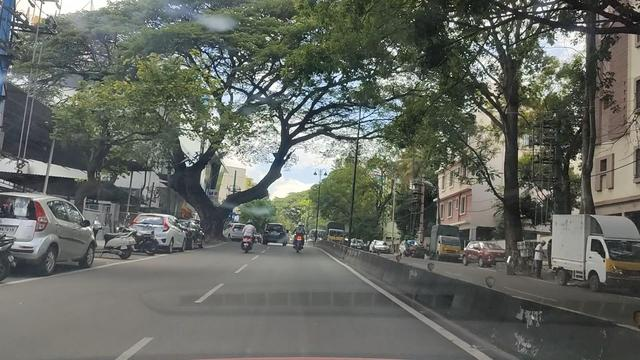LMV: (8, 192, 94, 274)
